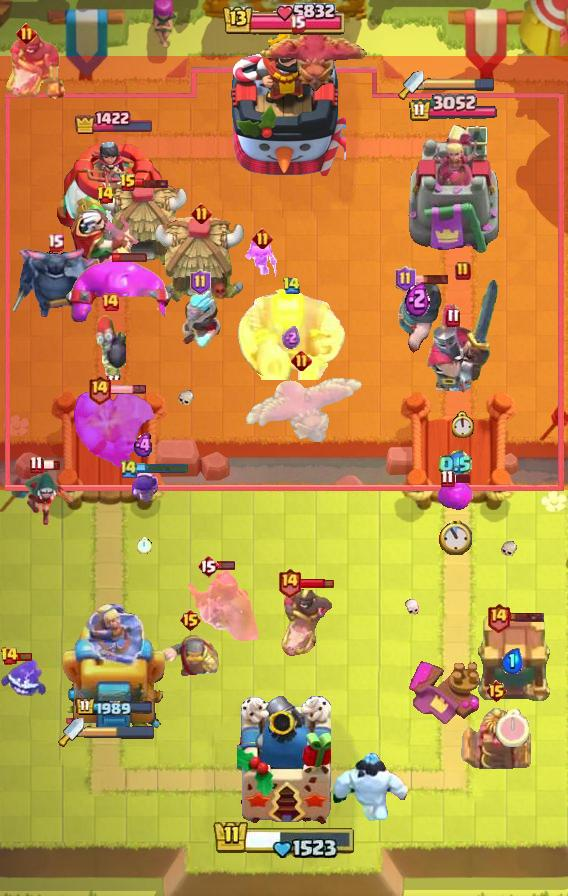archer-queen: (70, 390, 158, 470)
bar: (59, 595, 169, 731), (406, 122, 500, 256)
barbarian-hut: (182, 567, 262, 647)
bomb: (473, 615, 551, 703)
clock: (212, 816, 356, 858), (221, 0, 347, 40)
clone: (63, 260, 175, 326)
electro-spirit: (439, 449, 473, 478), (405, 279, 430, 317), (132, 434, 156, 459), (501, 648, 523, 674), (282, 326, 300, 350)
elixir: (495, 709, 528, 747), (439, 519, 473, 555), (452, 410, 475, 437), (137, 538, 151, 554)
emote: (137, 462, 190, 474), (413, 273, 450, 285), (507, 611, 544, 623), (134, 177, 170, 189), (298, 577, 334, 589), (109, 385, 146, 396), (112, 252, 148, 263), (41, 459, 61, 471), (452, 472, 472, 483), (13, 651, 33, 662), (216, 560, 235, 571)
firecracker: (160, 634, 220, 679)
freeze: (0, 33, 68, 105), (278, 587, 334, 657)
giant-skeleton: (236, 286, 346, 380)
goblin: (244, 238, 280, 278), (130, 471, 157, 505)
goblin-brawler: (461, 704, 531, 772)
golemite: (13, 247, 97, 319)
ice-golem: (94, 314, 126, 380)
king-tower: (222, 31, 346, 181), (237, 696, 331, 826)
king-tower-bar: (424, 77, 496, 91), (84, 725, 156, 739)
miner: (437, 482, 473, 512)
mortar: (178, 289, 222, 351)
mother-witch: (236, 376, 366, 450), (253, 25, 367, 93)
prince: (94, 179, 188, 269), (154, 215, 248, 305)
queen-tower: (51, 137, 177, 255)
rage: (328, 753, 414, 821)
royal-hog: (392, 275, 442, 353)
selected: (409, 94, 500, 123), (73, 110, 154, 135), (74, 698, 154, 719)
skeleton-king: (69, 204, 141, 276)
spear-goblin: (0, 658, 46, 702)
tesla: (25, 470, 75, 528)
text: (87, 375, 112, 406), (277, 567, 302, 598), (486, 602, 511, 633), (178, 608, 201, 632), (484, 679, 507, 703), (396, 266, 417, 292), (190, 269, 211, 295), (197, 554, 219, 578), (252, 227, 273, 249), (16, 23, 37, 44), (192, 203, 213, 224), (291, 350, 312, 371), (119, 457, 139, 478), (100, 292, 120, 312), (97, 185, 116, 205), (1, 646, 20, 666), (283, 276, 302, 295), (119, 173, 137, 193), (289, 15, 307, 34), (48, 232, 65, 251), (455, 261, 471, 281), (28, 455, 43, 473), (440, 469, 455, 487)
wall-breaker-evolution: (426, 278, 500, 398)
